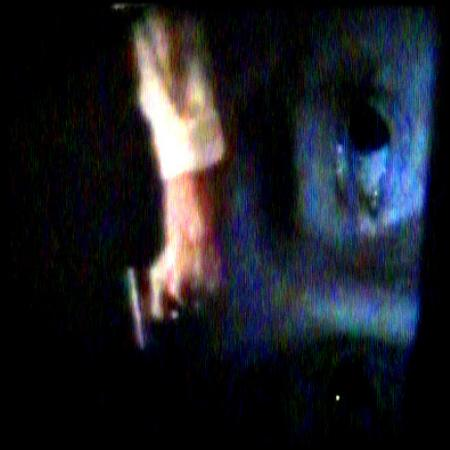Pistol: (115, 261, 193, 350)
